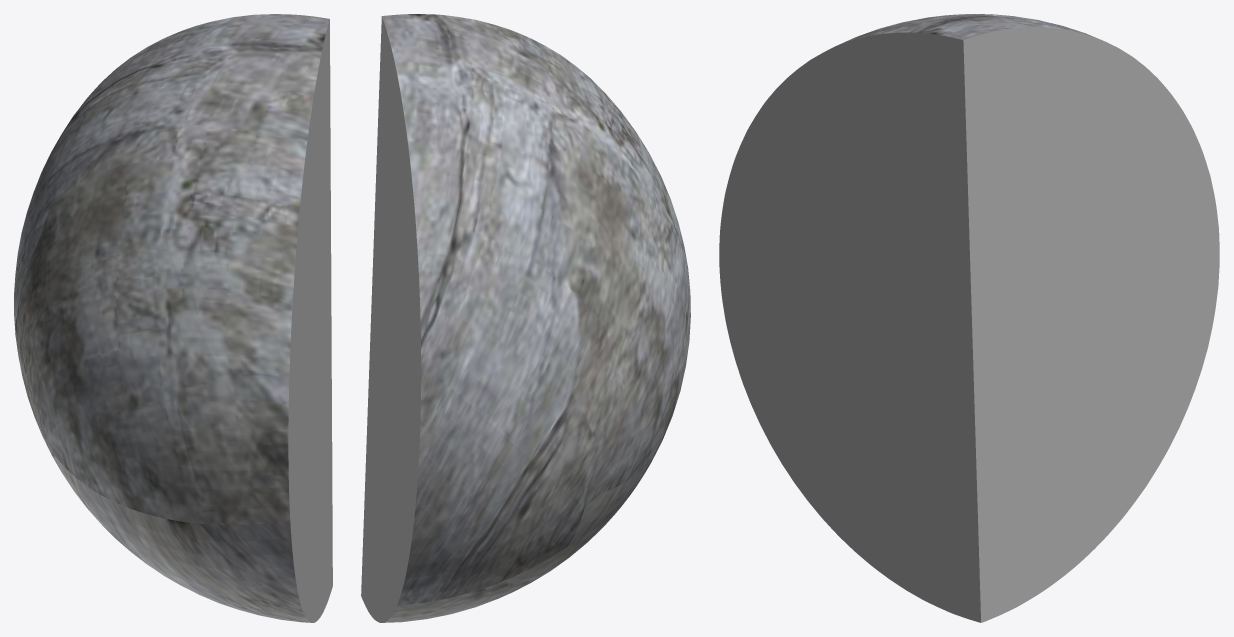
File: sliced_ball4.obj
3 renders of one model, left to right at view 1: azimuth 30°, elevation 25°; view 2: azimuth 150°, elevation 25°; view 3: azimuth 270°, elevation 25°, orthographic.
Parts seen in each view (by area): view 1: Object.1; view 2: Object.1; view 3: Object.1.
Part boxes in pixels (x1,y1,x2,y2): Object.1: [14, 14, 332, 622]; Object.1: [361, 14, 690, 622]; Object.1: [719, 14, 1219, 622].
Size of the model in its own units: 0.5108 by 0.9989 by 0.7846.
